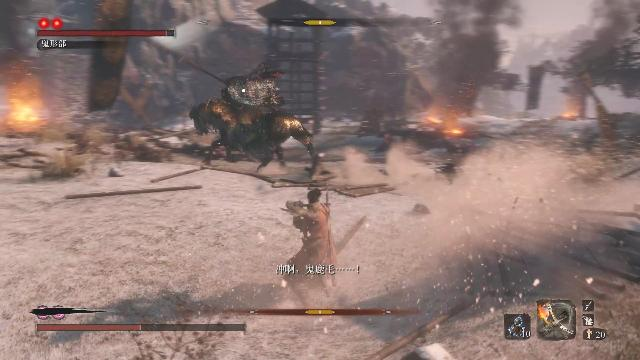sk: (281, 180, 339, 314)
